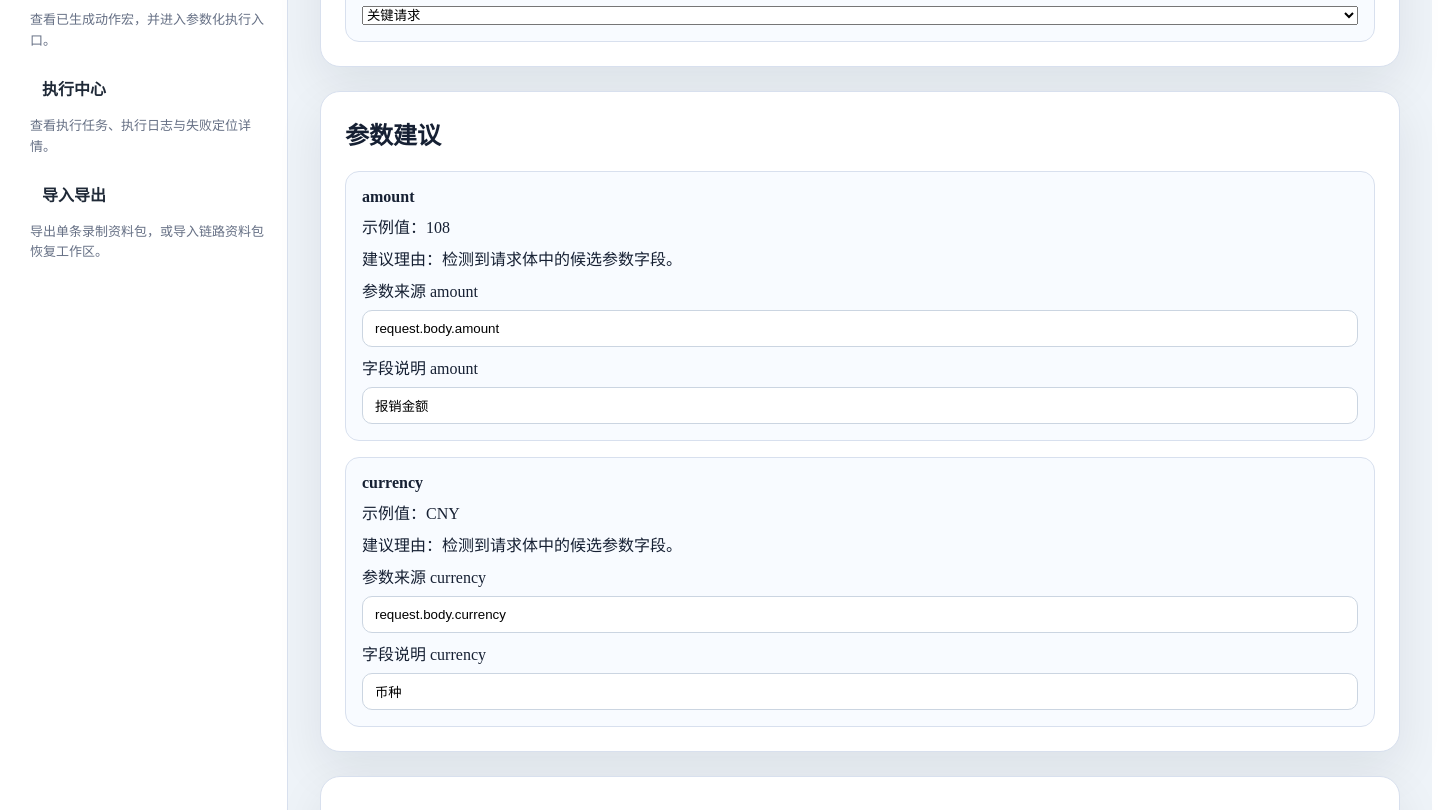
it: App › requires saving review changes before generating an action macro
(page scrolled)
Replace the text in the field labelled "字段说明 amount" with "报销金额（已修改）" at (860, 405), box [362,386,1358,424]
(page scrolled)
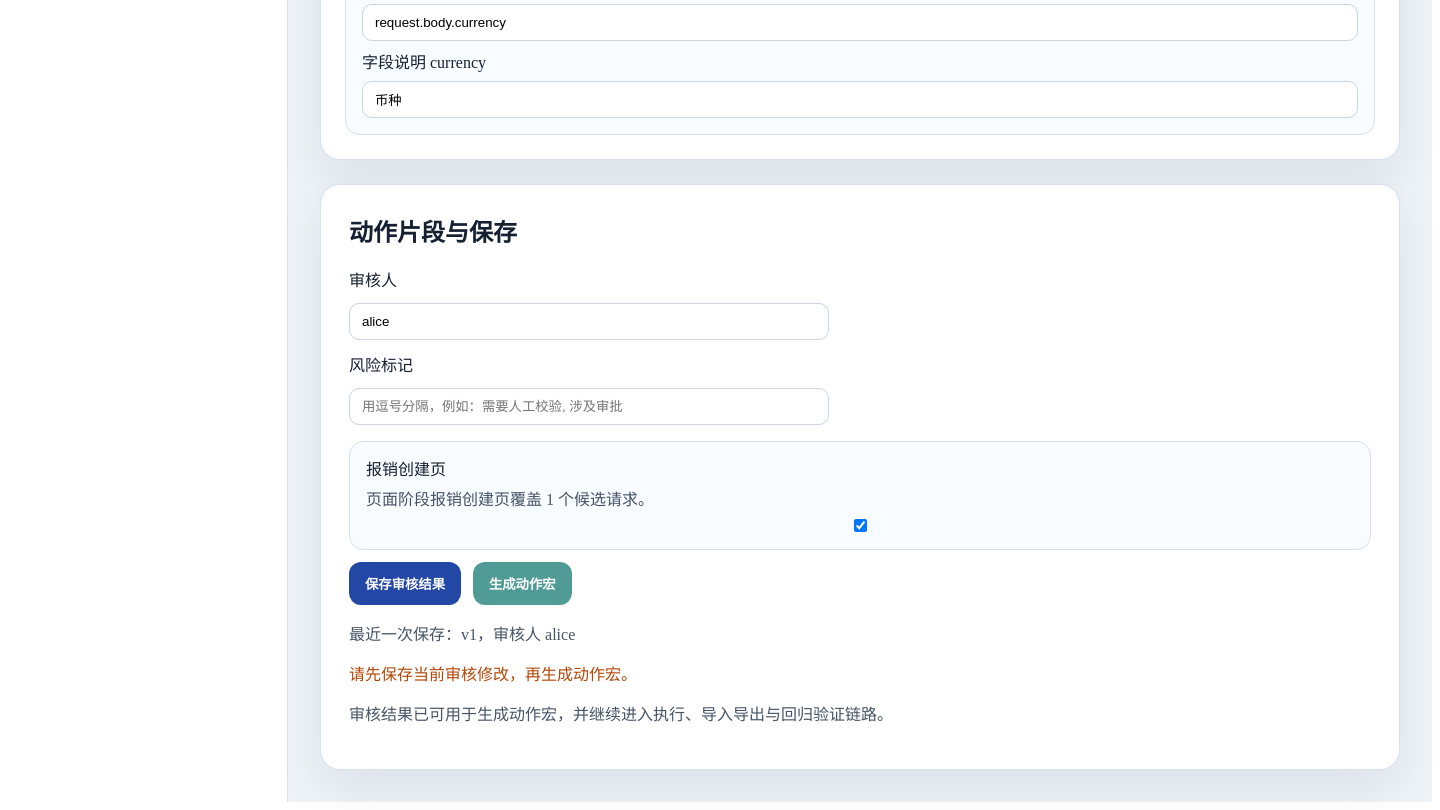
Now the button "生成动作宏" is disabled, box [473,562,572,605]
Now the text "请先保存当前审核修改，再生成动作宏。" is shown, box [349,666,637,683]
